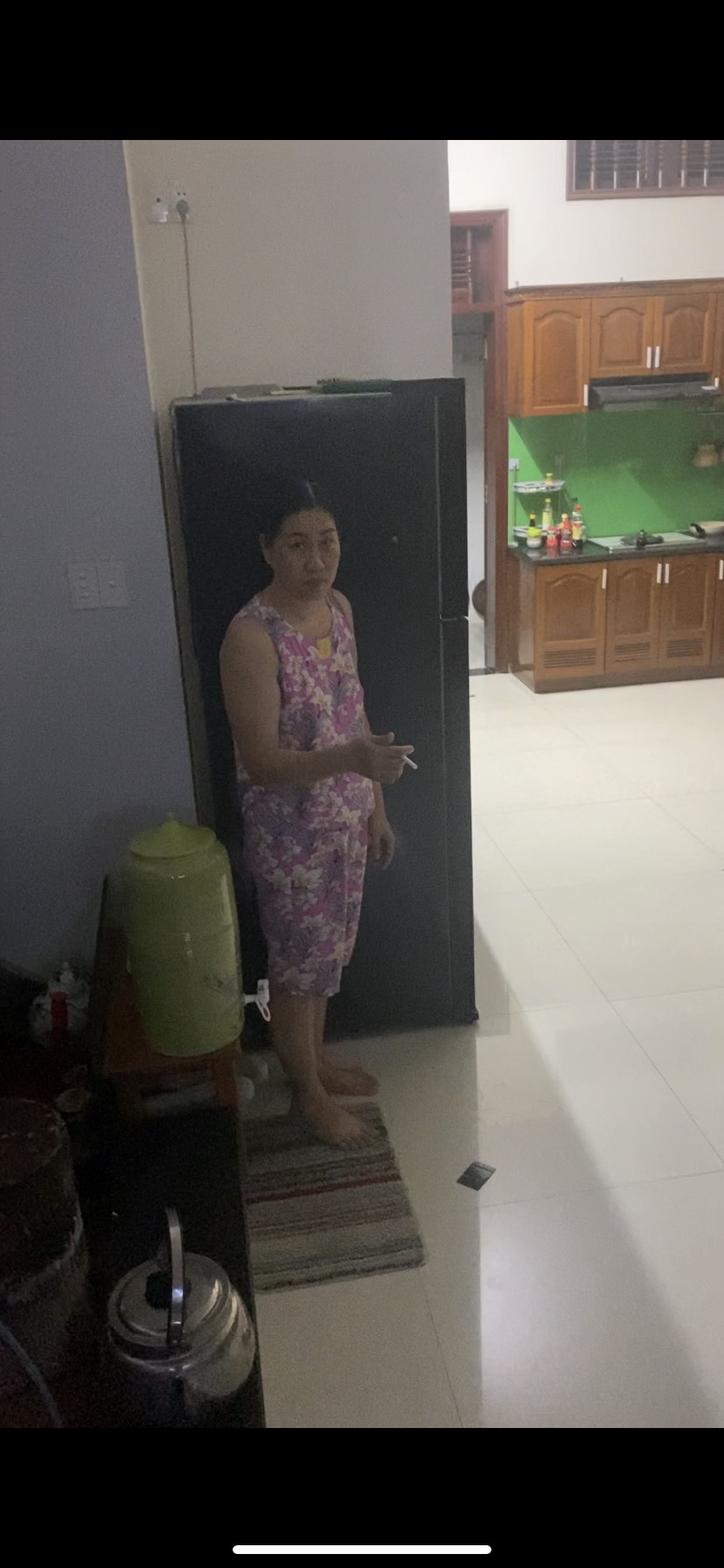cigarette: (400, 753, 422, 774)
person: (219, 480, 412, 1144)
